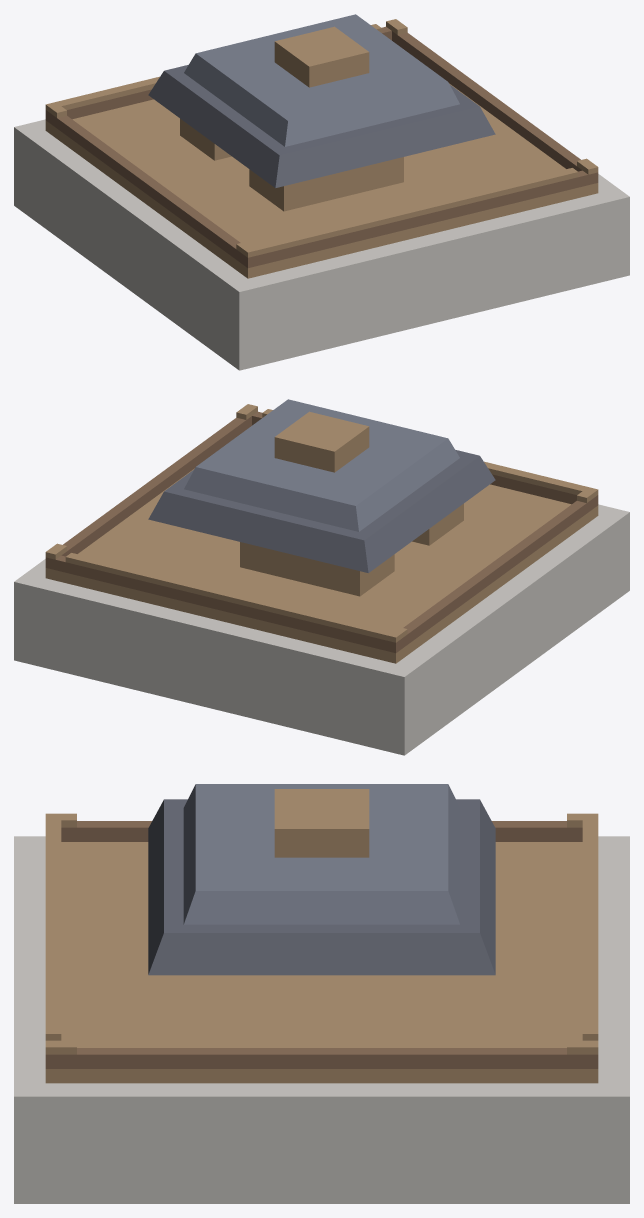
File: station_岭台.glb
3 renders of one model, top to bottom at view 1: azimuth 30°, elevation 25°; view 2: azimuth 150°, elevation 25°; view 3: azimuth 270°, elevation 25°, orthographic. The views are drawn at different scales.
Visible parts, largest first — view 1: 岭台; view 2: 岭台; view 3: 岭台.
Boxes of the visible parts, <box> form: 岭台: <box>14,14,629,370</box>; 岭台: <box>14,399,629,755</box>; 岭台: <box>14,784,629,1203</box>.
Size of the model in its own units: 1.56 by 0.7399 by 1.56.
